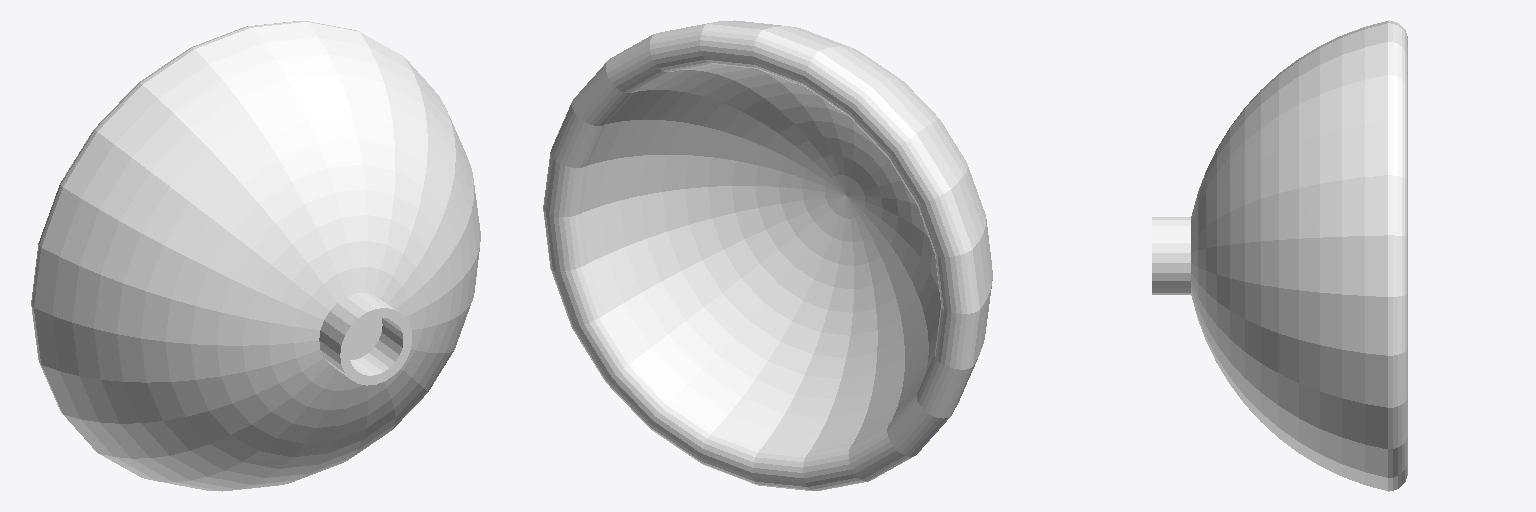
The robot description file, URDF, robot "c0f57c7f98d2581c744a455c7eef0ae5":
<robot name="c0f57c7f98d2581c744a455c7eef0ae5">
	<link name="_name">
		<visual>
			<origin xyz="4.134786037437983e-10 -0.0029806136932528857 1.1207848486569782e-09" rpy="0 0 0" />
			<geometry>
				<mesh filename="models/model_normalized.obj" scale="1 1 1" />
			</geometry>
			<material name="texture">
				<color rgba="1.0 1.0 1.0 1.0" />
			</material>
		</visual>
		<collision>
			<geometry>
				<mesh filename="models/model_normalized.obj" scale="1 1 1" />
			</geometry>
		<origin xyz="4.134786037437983e-10 -0.0029806136932528857 1.1207848486569782e-09" rpy="0 0 0" /></collision>
		<inertial>
			<mass value="1.0" />
			<inertia ixx="1.0" ixy="0.0" ixz="0.0" iyy="1.0" iyz="0.0" izz="1.0" />
		</inertial>
	</link>
</robot>

--- Facts derived from the render (not from the file) ---
3 views of the same robot in one strip: view 1: azimuth 30°, elevation 25°; view 2: azimuth 150°, elevation 25°; view 3: azimuth 270°, elevation 25° (orthographic).
Model c0f57c7f98d2581c744a455c7eef0ae5 with 1 links and 0 joints (none), rooted at _name, posed every joint at zero.
Links seen in each view (by area): view 1: _name; view 2: _name; view 3: _name.
Link boxes in pixels (x1=…): _name: x1=31, y1=21, x2=480, y2=491; _name: x1=543, y1=20, x2=992, y2=490; _name: x1=1152, y1=20, x2=1407, y2=491.
Size in the robot's own frame: 0.6603 by 0.3577 by 0.6603 metres.
Meshes: 1 distinct files referenced, 1 mesh visuals loaded (1 OBJ).